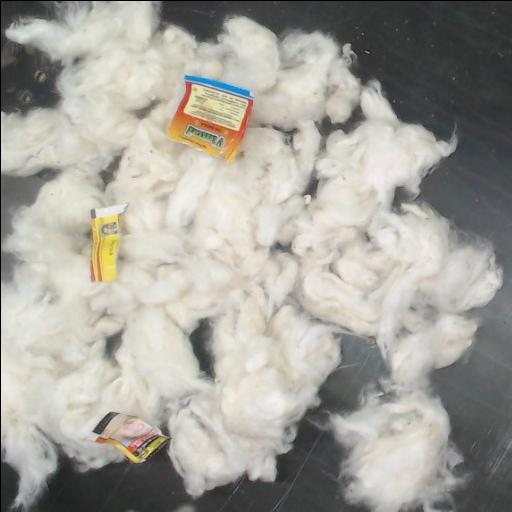conveyor belt: (163, 1, 512, 512), (32, 419, 364, 512), (1, 1, 59, 111), (308, 339, 381, 417), (1, 170, 53, 242), (192, 324, 209, 370), (1, 461, 16, 512), (1, 252, 11, 278)
cotton: (1, 1, 501, 512)
packet: (166, 75, 252, 161), (92, 412, 169, 462), (91, 203, 127, 281)
